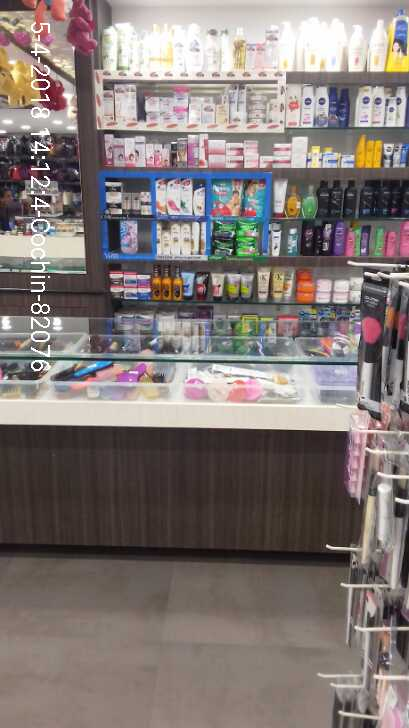venus: (120, 218, 139, 255)
